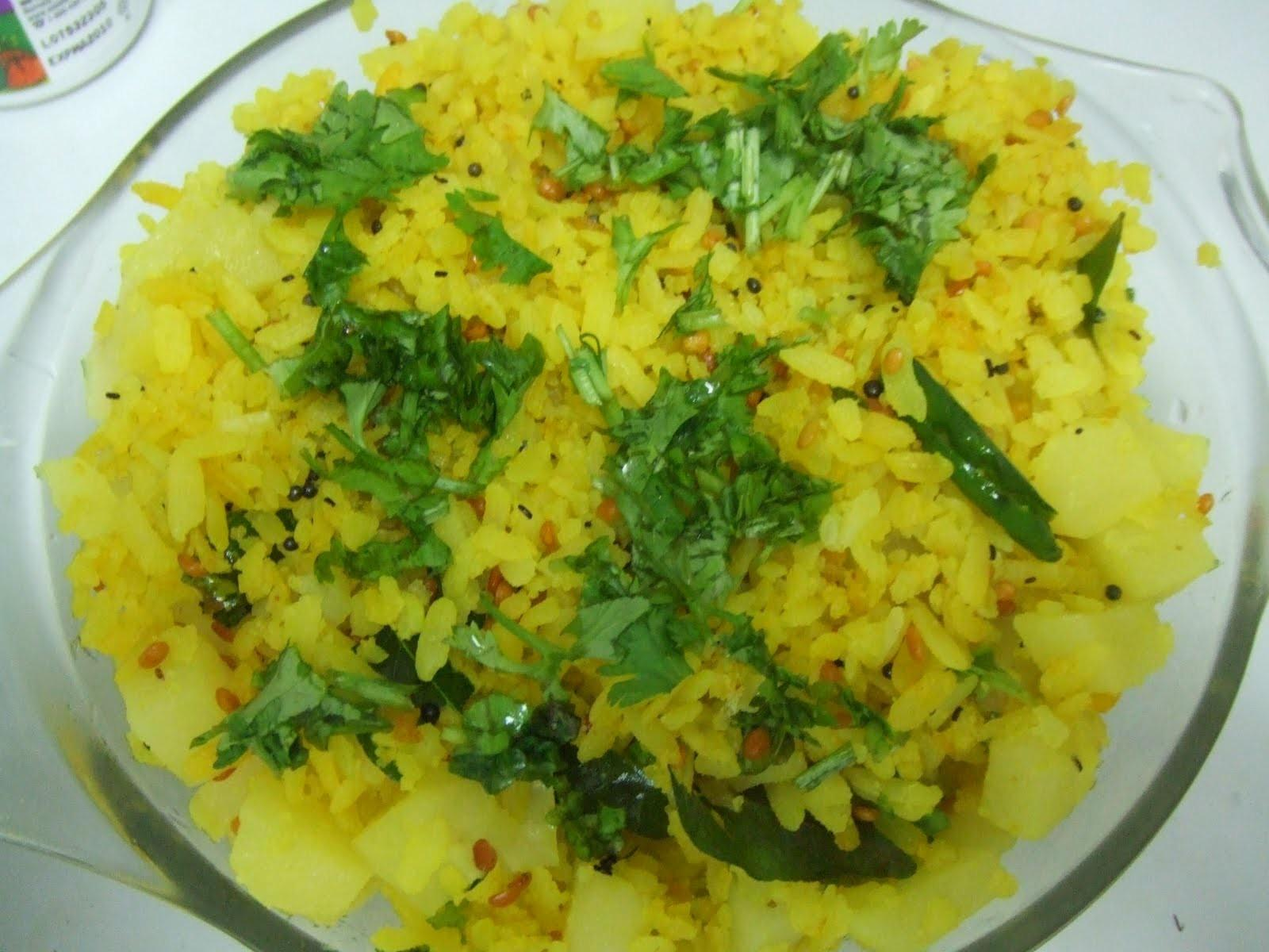Poha: (44, 0, 1226, 952)
